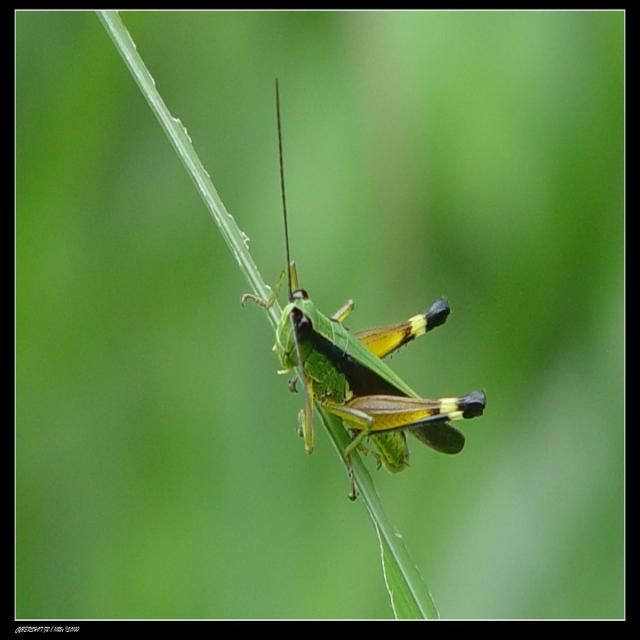ZhaMeng: (257, 237, 498, 498)
